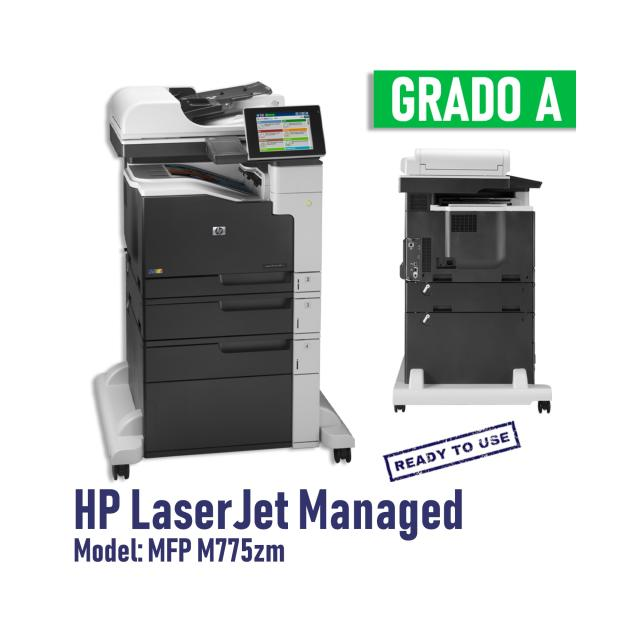printer: (93, 80, 354, 481), (392, 147, 552, 415)
